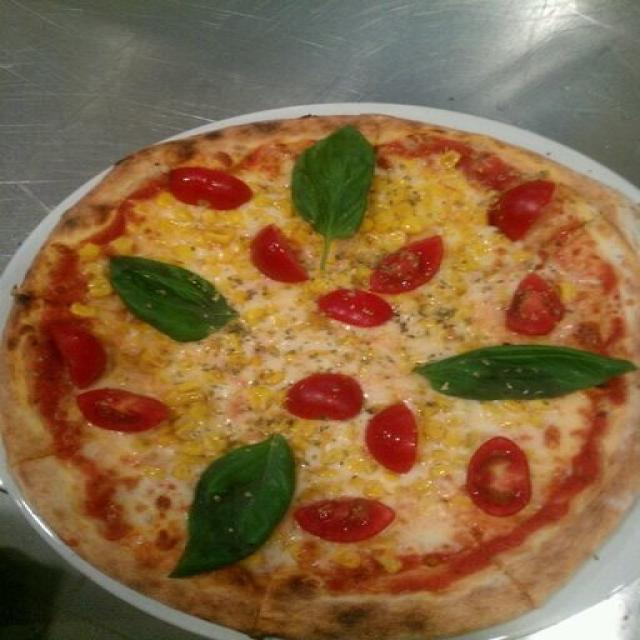Basil: (165, 434, 308, 578), (416, 339, 634, 408), (109, 260, 259, 345), (284, 132, 374, 249)
Pizza: (5, 115, 635, 640)
Sausage: (493, 181, 558, 230)
Tomato: (290, 492, 400, 542), (464, 436, 530, 516), (69, 388, 171, 438), (491, 265, 569, 330), (362, 238, 448, 294), (362, 400, 419, 472), (286, 373, 368, 419), (177, 162, 255, 208), (323, 290, 407, 331), (44, 323, 109, 375), (254, 226, 309, 284)
